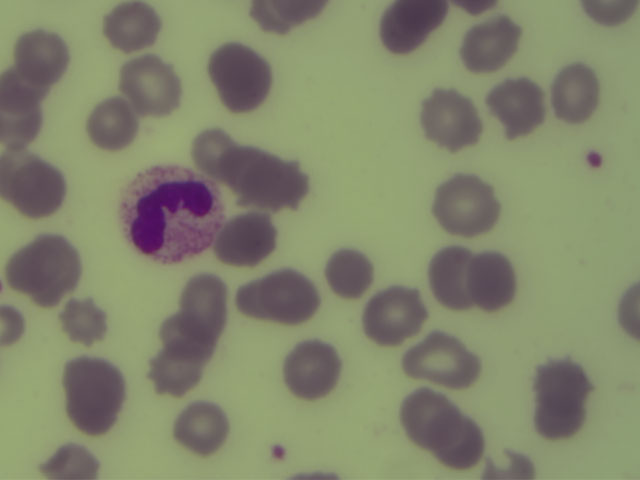Platelets: (584, 146, 610, 172), (267, 439, 292, 464)
RBC: (401, 334, 483, 387), (535, 360, 589, 428), (18, 241, 79, 295), (69, 361, 122, 422), (426, 244, 476, 307), (156, 315, 217, 361), (42, 437, 106, 480), (322, 246, 375, 297), (258, 267, 311, 318), (219, 213, 272, 264), (247, 153, 300, 204), (193, 126, 246, 177), (368, 291, 421, 342), (287, 344, 340, 395), (397, 388, 450, 439), (439, 182, 492, 233), (423, 92, 476, 143), (492, 78, 545, 129), (547, 65, 600, 116), (463, 19, 516, 70), (176, 402, 229, 453), (147, 345, 200, 396), (182, 272, 235, 323), (58, 295, 111, 346), (214, 54, 267, 105), (127, 61, 180, 112), (84, 99, 137, 150), (13, 163, 66, 214), (14, 26, 67, 77), (380, 1, 433, 51), (104, 1, 157, 51), (470, 254, 513, 310), (432, 418, 485, 462), (245, 1, 311, 34), (1, 65, 51, 105), (1, 100, 42, 143), (580, 1, 640, 30), (1, 145, 39, 190), (610, 281, 640, 337)
WBC: (122, 164, 217, 263)
